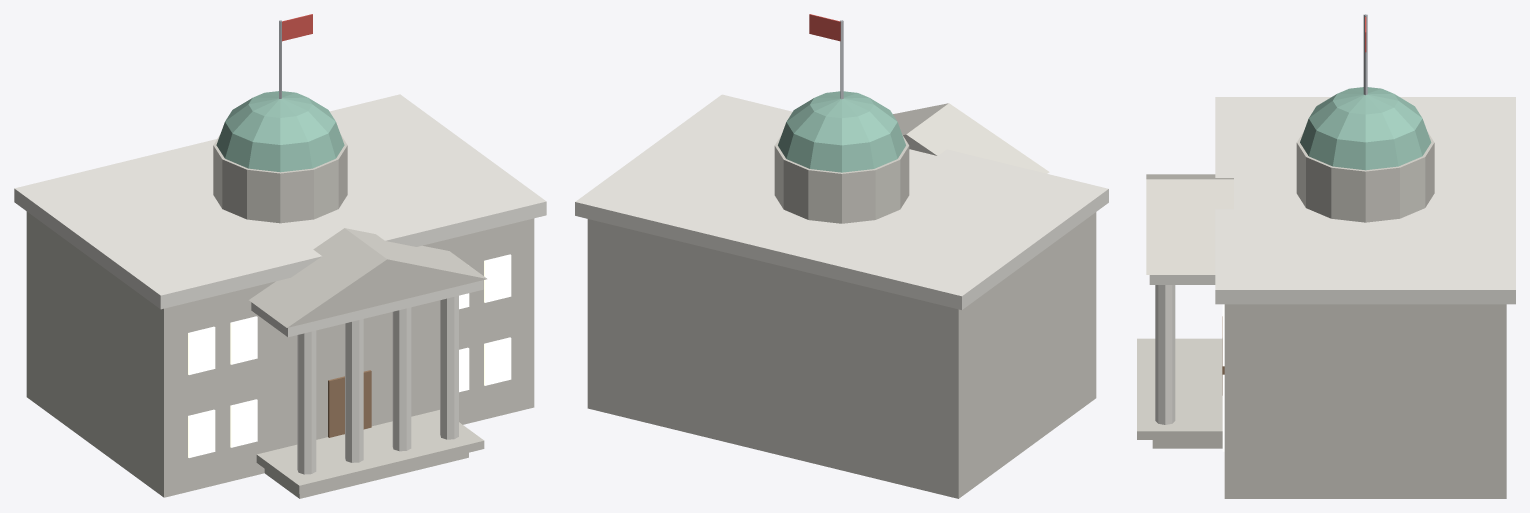
File: city_hall.glb
3 views of the same model, side by side, from view 1: azimuth 30°, elevation 25°; view 2: azimuth 150°, elevation 25°; view 3: azimuth 270°, elevation 25° (orthographic). The views are drawn at different scales.
Parts seen in each view (by area): view 1: city_hall; view 2: city_hall; view 3: city_hall.
Part boxes in pixels (x1,y1,x2,y2): city_hall: (14, 14, 546, 498); city_hall: (575, 14, 1108, 498); city_hall: (1137, 14, 1515, 498).
Bounding box in the file's own units: 14.6 × 13.8 × 12.1.
